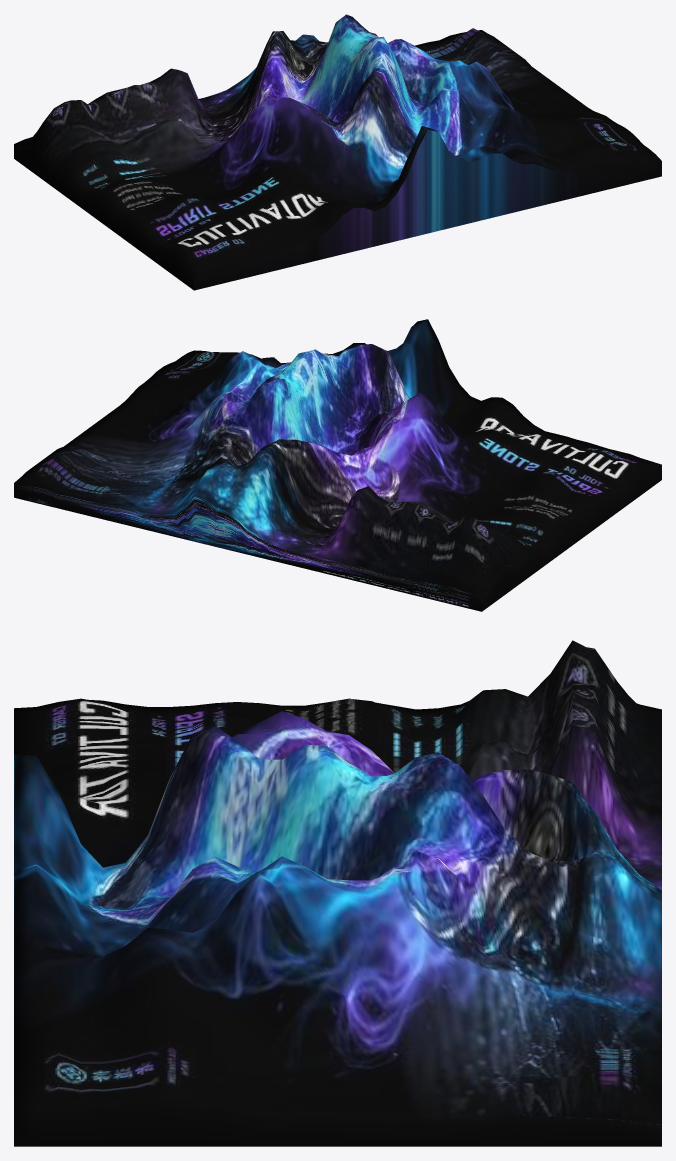
Rendered from CAREER_07_Tool_04_Spirit_Stone.glb.
The picture shows the model from 3 angles, top to bottom: view 1: azimuth 30°, elevation 25°; view 2: azimuth 150°, elevation 25°; view 3: azimuth 270°, elevation 25°; orthographic projection. The views are drawn at different scales.
Visible parts, largest first — view 1: CAREER_07_Tool_04_Spirit_Stone; view 2: CAREER_07_Tool_04_Spirit_Stone; view 3: CAREER_07_Tool_04_Spirit_Stone.
Part boxes in pixels (x1,y1,x2,y2): CAREER_07_Tool_04_Spirit_Stone: [14, 14, 661, 290]; CAREER_07_Tool_04_Spirit_Stone: [14, 319, 661, 611]; CAREER_07_Tool_04_Spirit_Stone: [14, 640, 661, 1146].
Size of the model in its own units: 2 by 0.51 by 1.33.
1 material, 1 textured.
